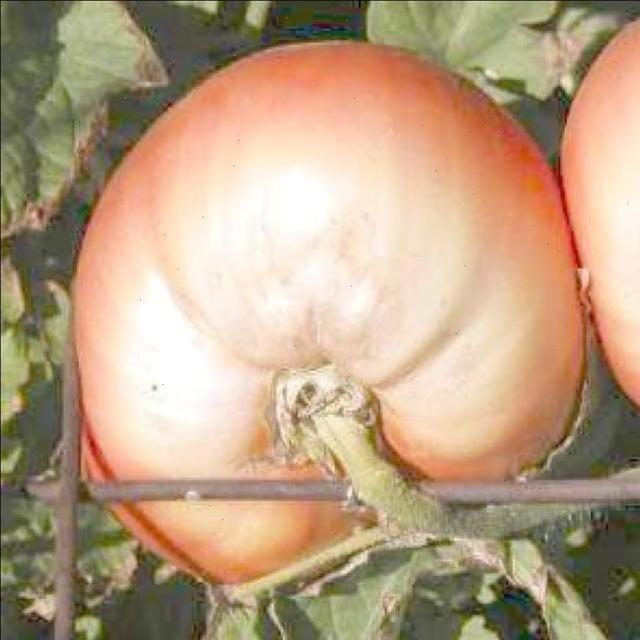Sunscald Fruit: (64, 94, 348, 324)
